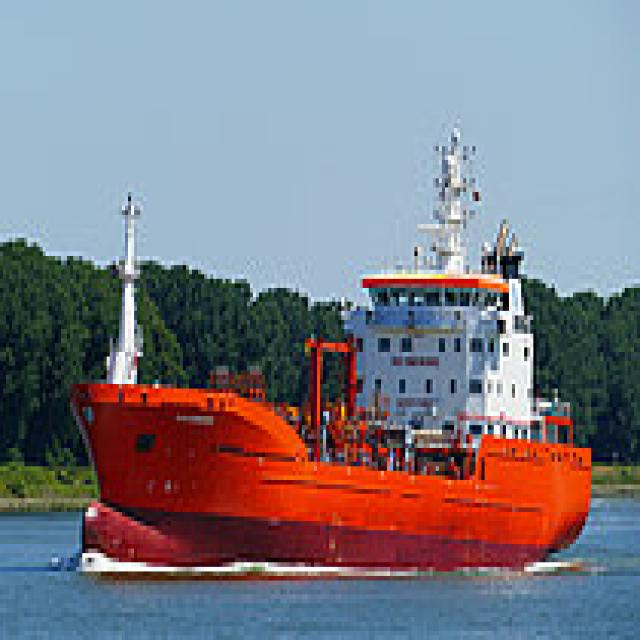Tanker: (64, 114, 591, 572)
